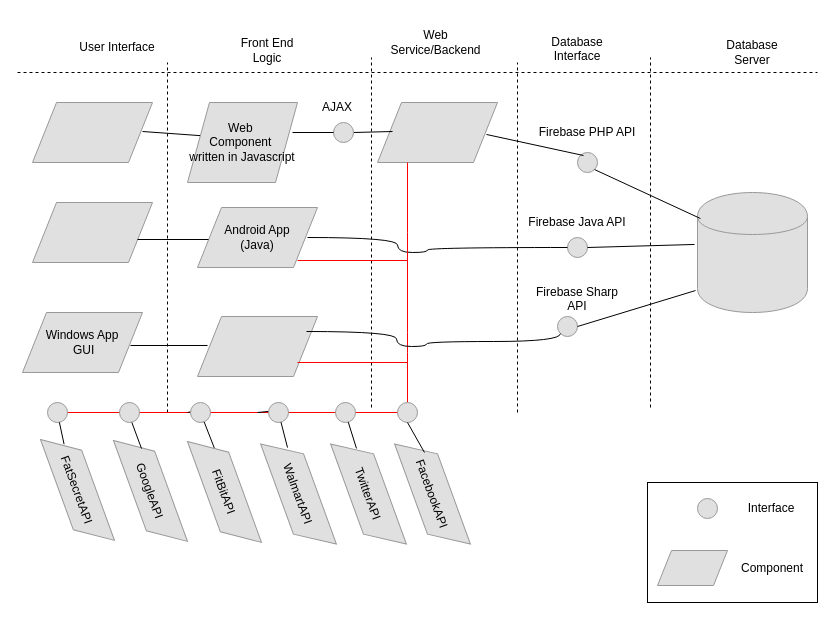
Image size: 836x620. Some labels were removed from this diagram. The centre of each missing label's shape, as x and y in pixels:
"Android App GUI" goes at (92,232).
"Firebase DB" goes at (752,252).
"PHP backend" goes at (437,132).
"Web Browser" goes at (92,132).
"Windows App (C#)" goes at (257,346).
